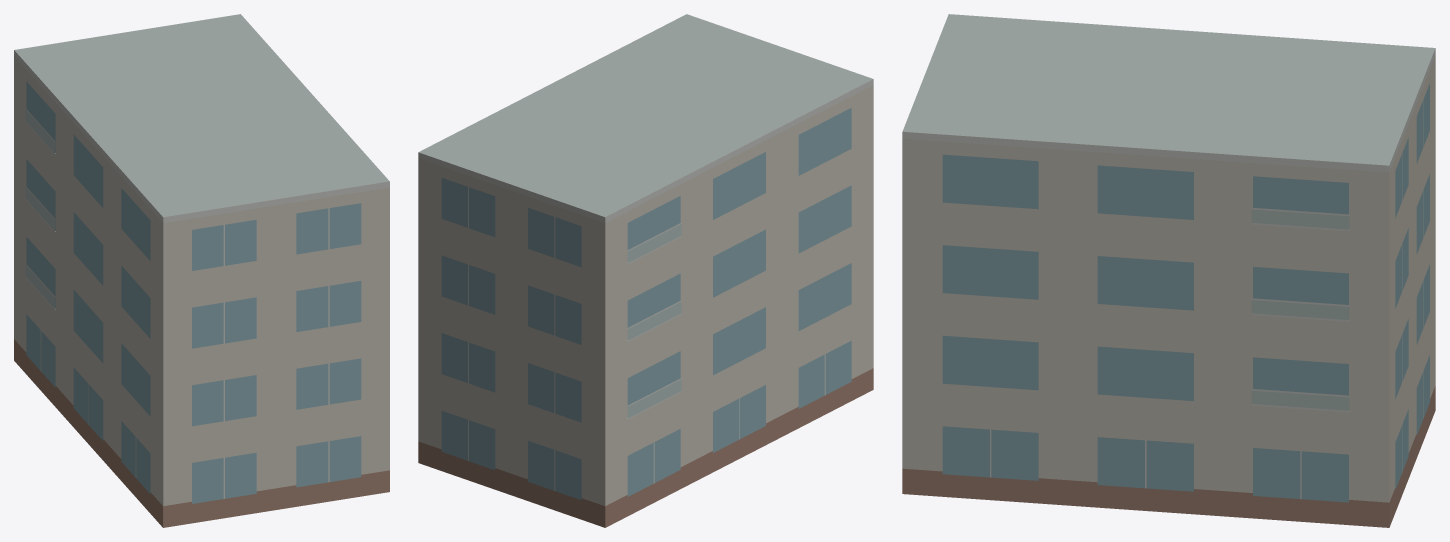
File: survey-upis-32887520.glb
3 renders of one model, left to right at view 1: azimuth 30°, elevation 25°; view 2: azimuth 150°, elevation 25°; view 3: azimuth 270°, elevation 25°, orthographic. The views are drawn at different scales.
Parts seen in each view (by area): view 1: survey-upis-32887520.tmp; view 2: survey-upis-32887520.tmp; view 3: survey-upis-32887520.tmp.
Part boxes in pixels (x1,y1,x2,y2): survey-upis-32887520.tmp: (14, 14, 389, 527); survey-upis-32887520.tmp: (418, 14, 873, 527); survey-upis-32887520.tmp: (902, 14, 1435, 527).
Size of the model in its own units: 11.59 by 12.9 by 17.22.
